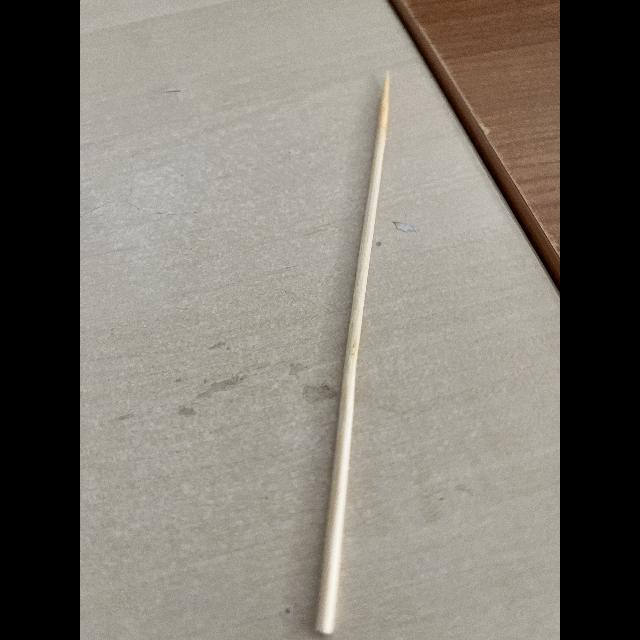stick: (297, 61, 398, 634)
